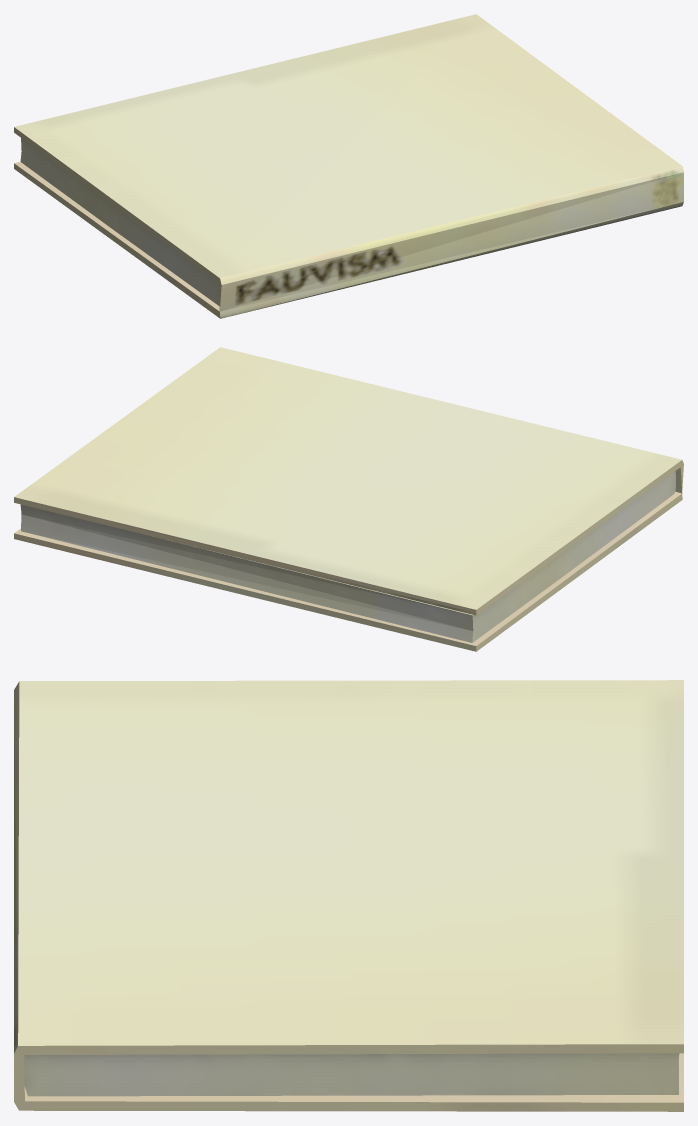
The model's file is artbook_fauvism.dae.
3 views of the same model, one above another, from view 1: azimuth 30°, elevation 25°; view 2: azimuth 150°, elevation 25°; view 3: azimuth 270°, elevation 25° (orthographic). The views are drawn at different scales.
Visible parts, largest first — view 1: node; view 2: node; view 3: node.
Boxes of the visible parts, x1=… form: node: x1=14, y1=14, x2=683, y2=318; node: x1=14, y1=347, x2=683, y2=651; node: x1=14, y1=680, x2=683, y2=1111.
Size of the model in its own units: 0.333 by 0.0289 by 0.259.
Materials: 1 (1 with a texture image).
